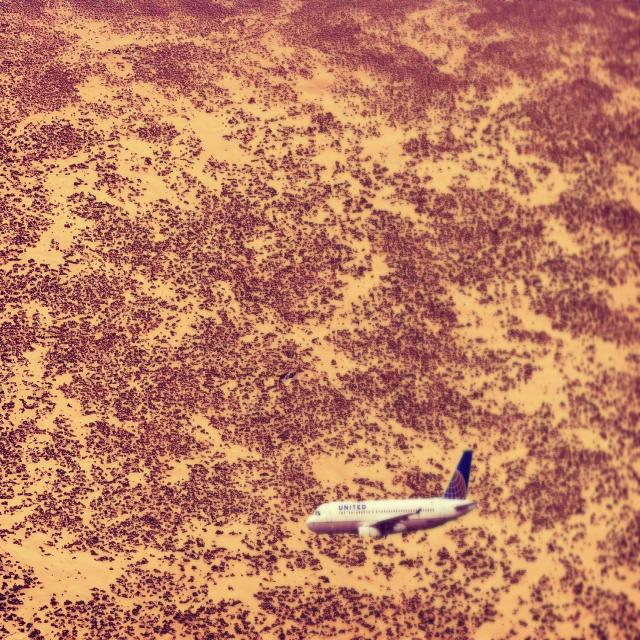airplane: (305, 447, 479, 540)
